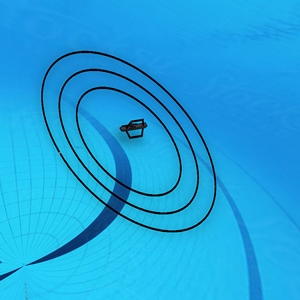circle: (38, 45, 220, 234)
submarine: (122, 115, 147, 140)
